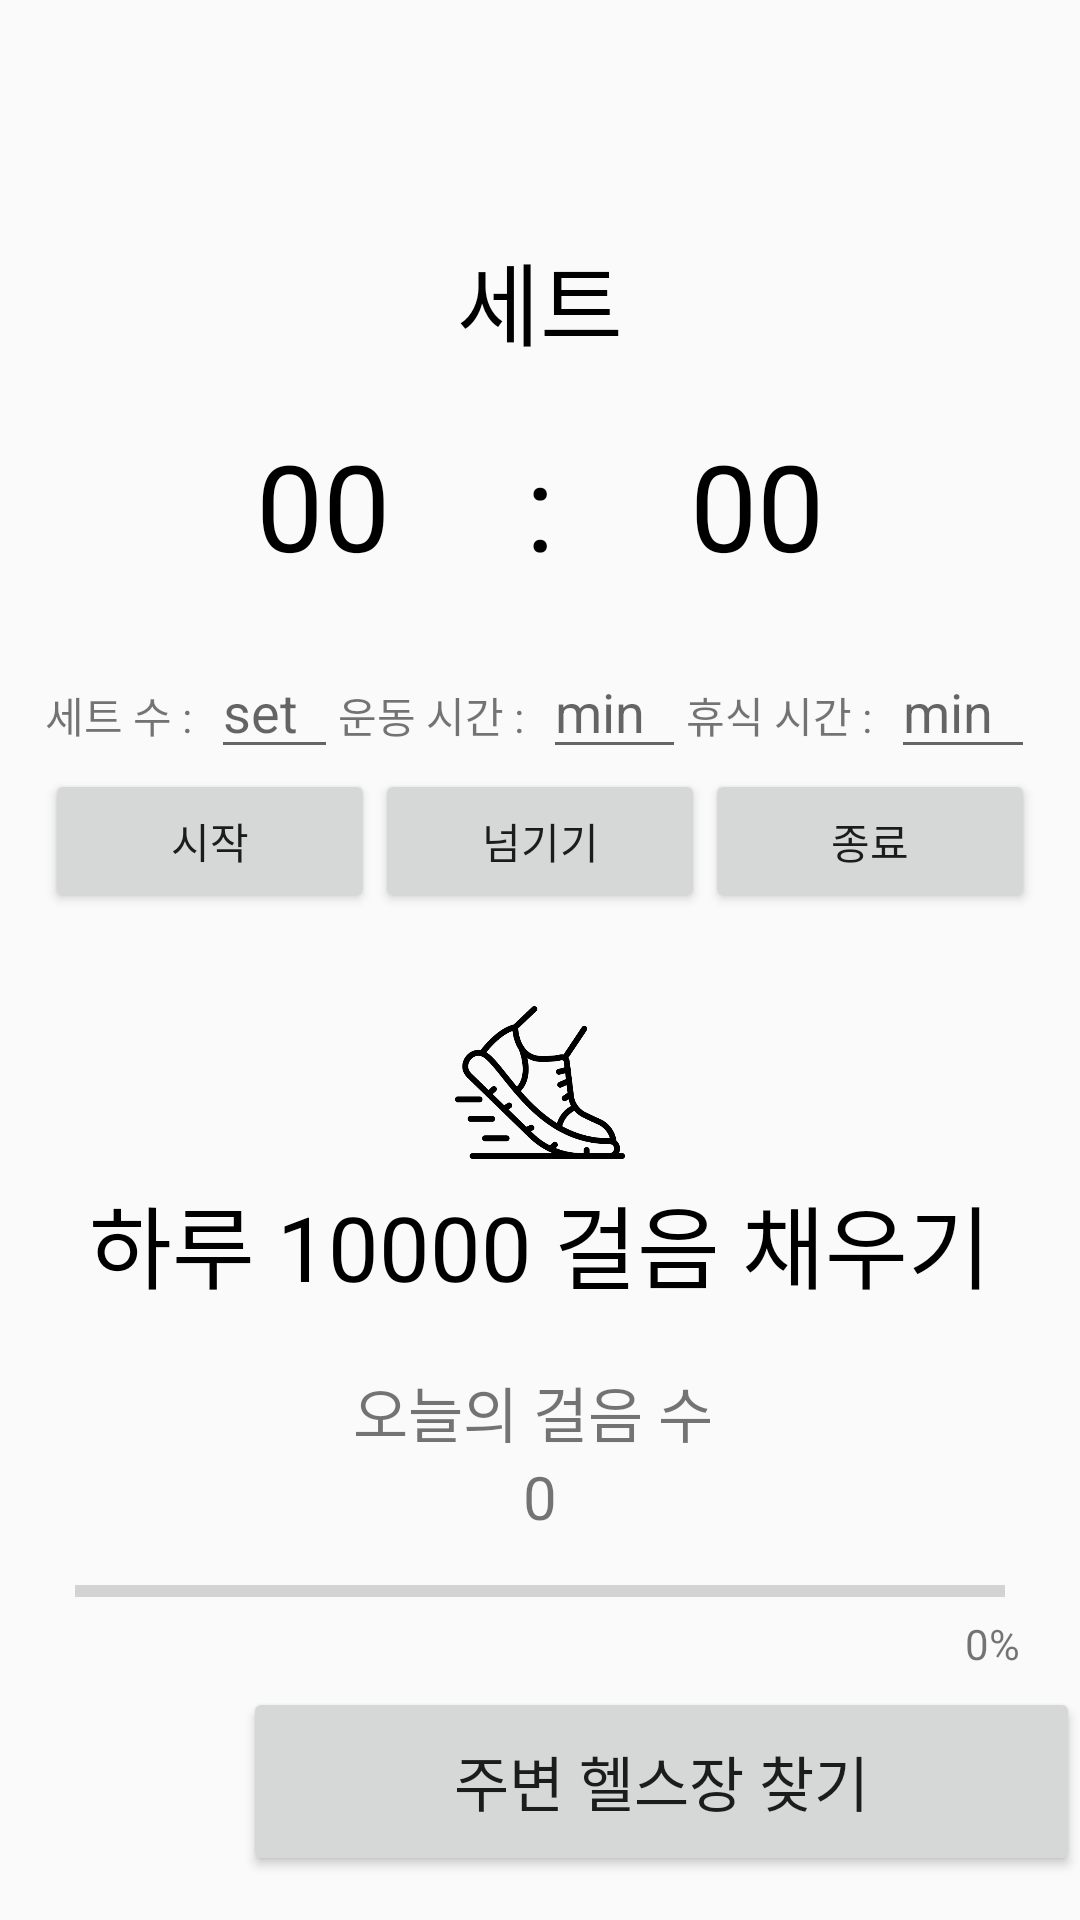

Named icons in this screenshot (1080x1920) and their bounding boxes, (x1, y1, x2, y2):
sport: (455, 1006, 625, 1159)
